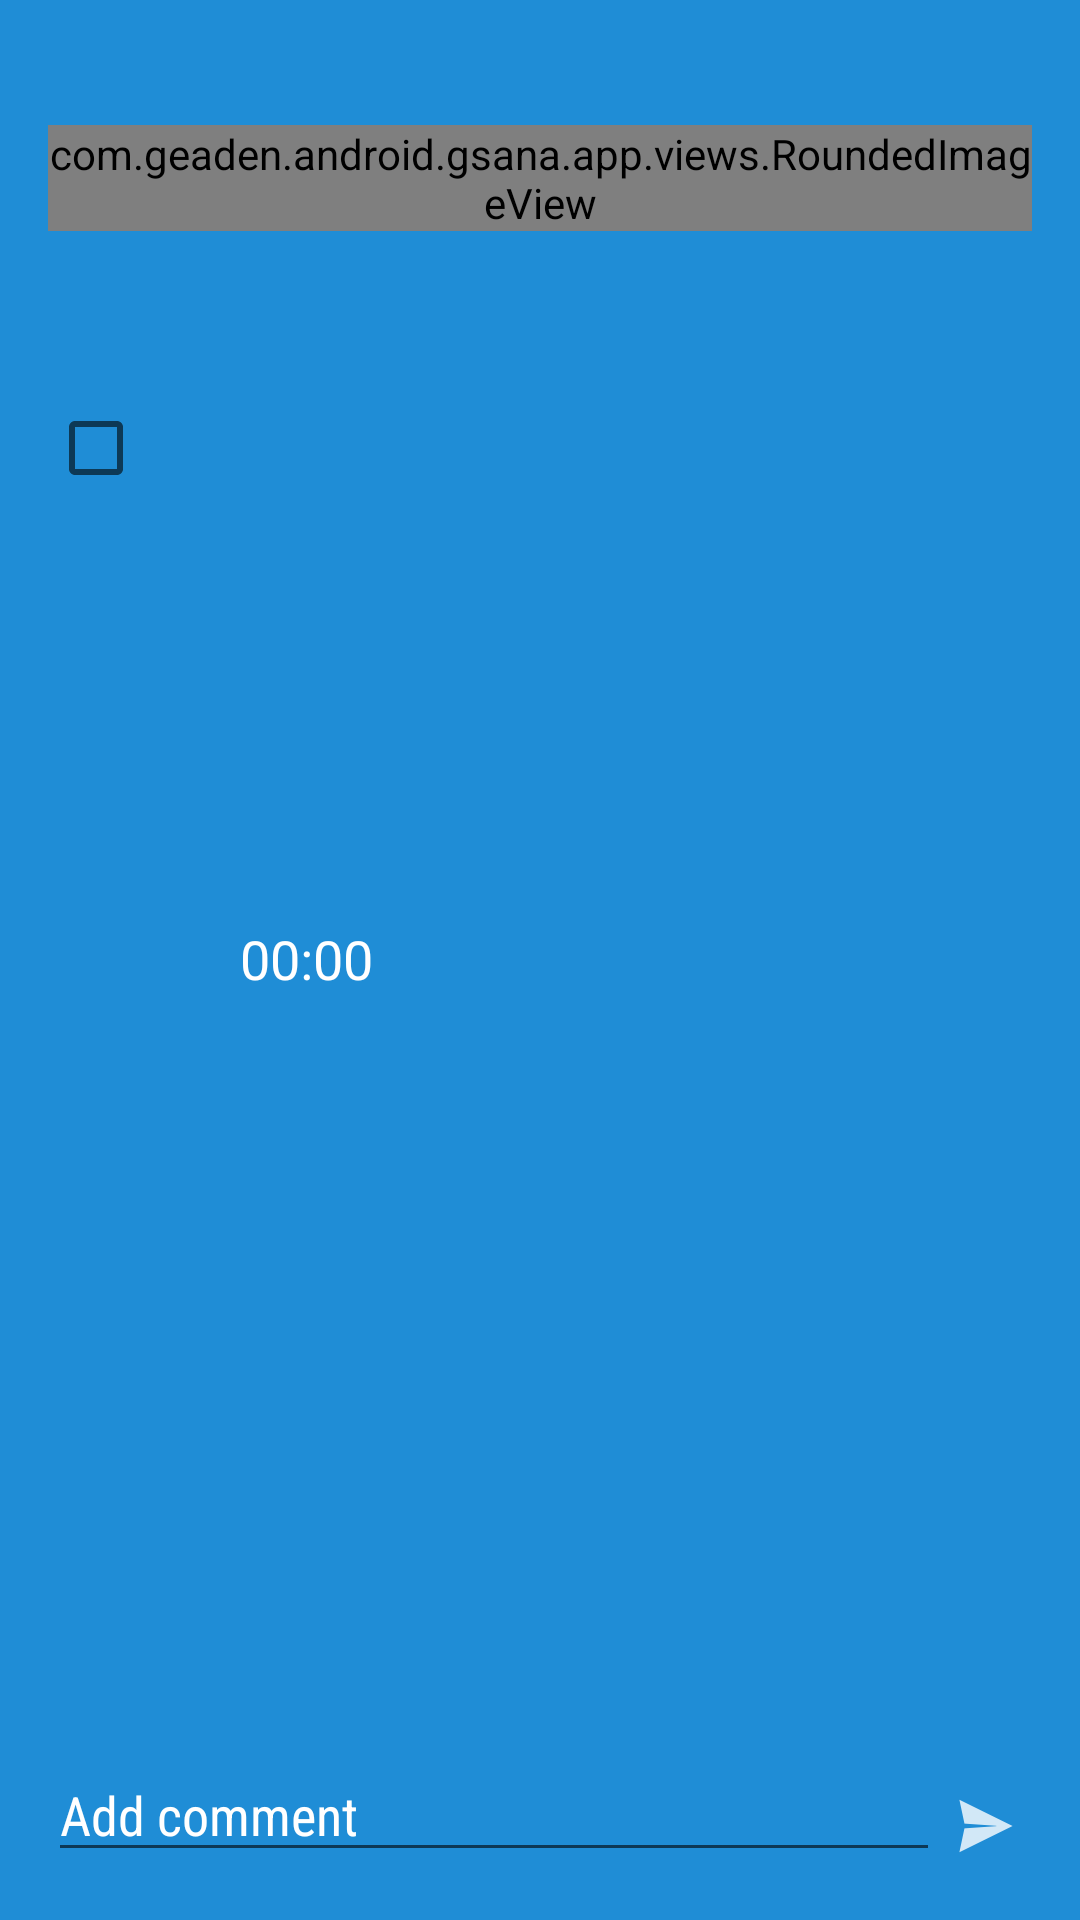

Point at icon controls on the screen. Image size 1080w x 1920h, points as point (x, y).
send: point (985, 1826)
